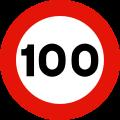Speed Limit -100-: (17, 41, 101, 83)
